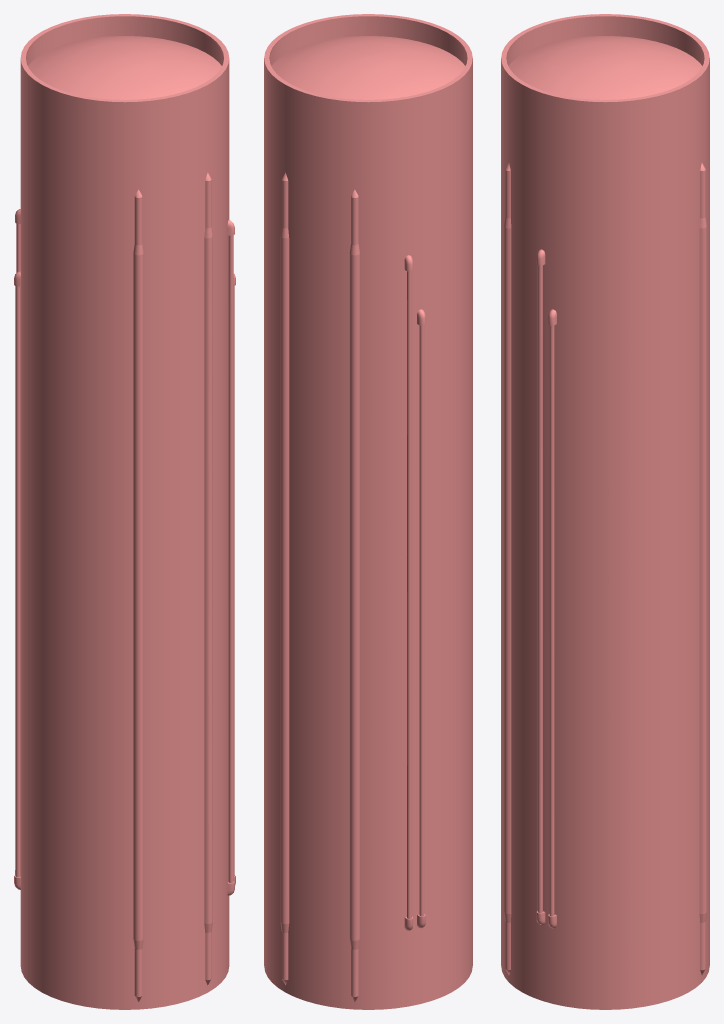
Rendered from RLV_LFO_1.obj.
3 views of the same model, side by side, from view 1: azimuth 30°, elevation 25°; view 2: azimuth 150°, elevation 25°; view 3: azimuth 270°, elevation 25° (orthographic).
Parts seen in each view (by area): view 1: RLV_LFO_1; view 2: RLV_LFO_1; view 3: RLV_LFO_1.
Part boxes in pixels (left/top/right/bottom): RLV_LFO_1: left=14, top=14, right=235, bottom=1009; RLV_LFO_1: left=264, top=14, right=472, bottom=1009; RLV_LFO_1: left=501, top=14, right=709, bottom=1009.
Bounding box in the file's own units: 5 × 24 × 5.
